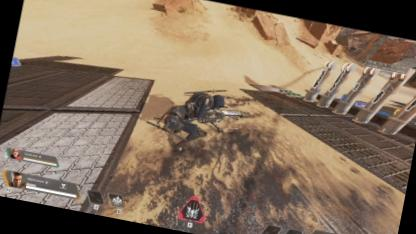Target: (158, 84, 230, 160)
